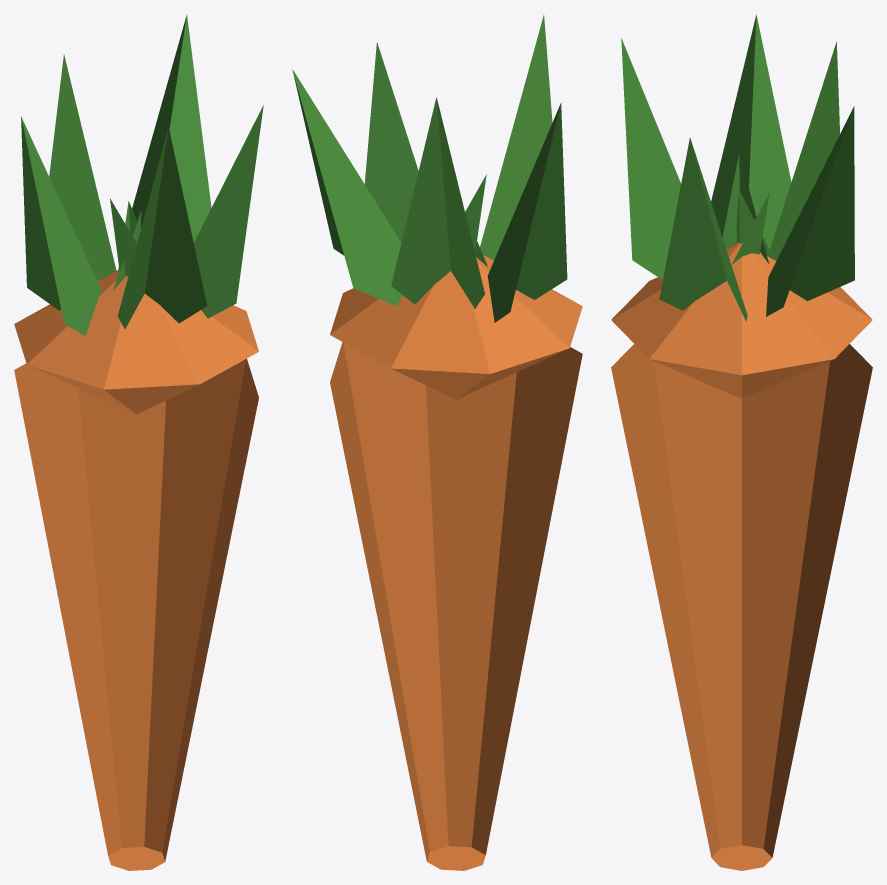
File: crop_carrot.glb
The picture shows the model from 3 angles, left to right: view 1: azimuth 30°, elevation 25°; view 2: azimuth 150°, elevation 25°; view 3: azimuth 270°, elevation 25°; orthographic projection. The views are drawn at different scales.
Visible parts, largest first — view 1: crop_carrot; view 2: crop_carrot; view 3: crop_carrot.
Part boxes in pixels (x1,y1,x2,y2): crop_carrot: (14,14,263,870); crop_carrot: (292,15,582,870); crop_carrot: (611,14,872,870).
Size of the model in its own units: 0.294 by 1 by 0.294.
